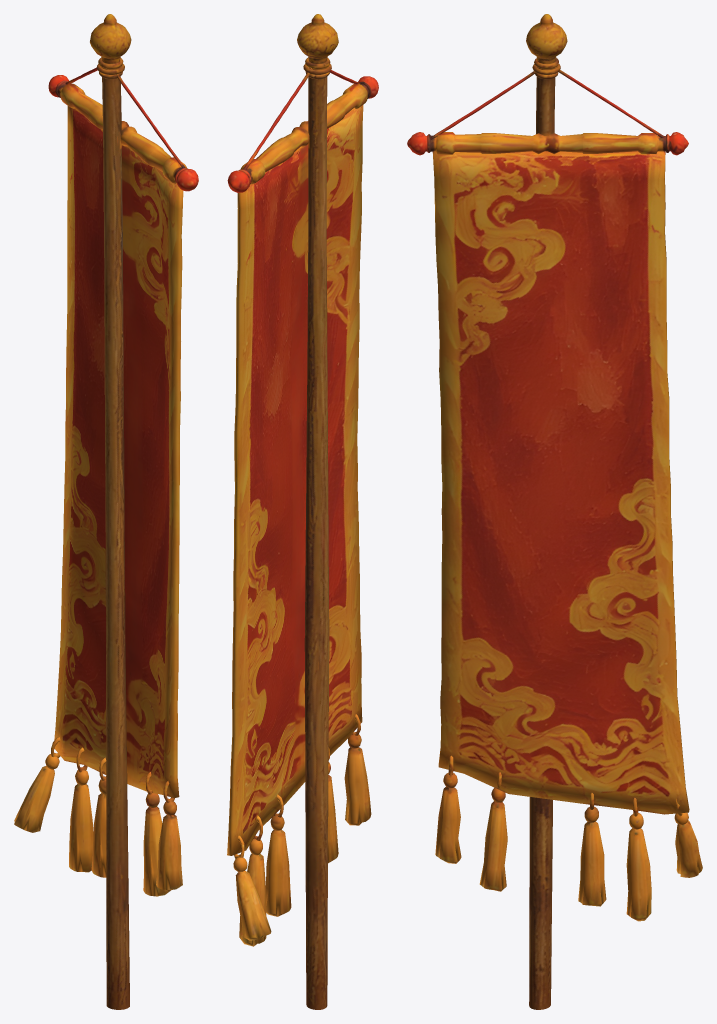
File: flag.glb
3 views of the same model, side by side, from view 1: azimuth 30°, elevation 25°; view 2: azimuth 150°, elevation 25°; view 3: azimuth 270°, elevation 25° (orthographic).
Parts seen in each view (by area): view 1: tripo_node_712e42b9-9185-4266-ab9f-6a88856ff55a; view 2: tripo_node_712e42b9-9185-4266-ab9f-6a88856ff55a; view 3: tripo_node_712e42b9-9185-4266-ab9f-6a88856ff55a.
Boxes of the visible parts, bbox=[...] form: tripo_node_712e42b9-9185-4266-ab9f-6a88856ff55a: bbox=[14, 14, 198, 1009]; tripo_node_712e42b9-9185-4266-ab9f-6a88856ff55a: bbox=[227, 14, 378, 1009]; tripo_node_712e42b9-9185-4266-ab9f-6a88856ff55a: bbox=[407, 14, 702, 1009].
Size of the model in its own units: 0.0601 by 0.9995 by 0.271.
Materials: 1 (1 with a texture image).
